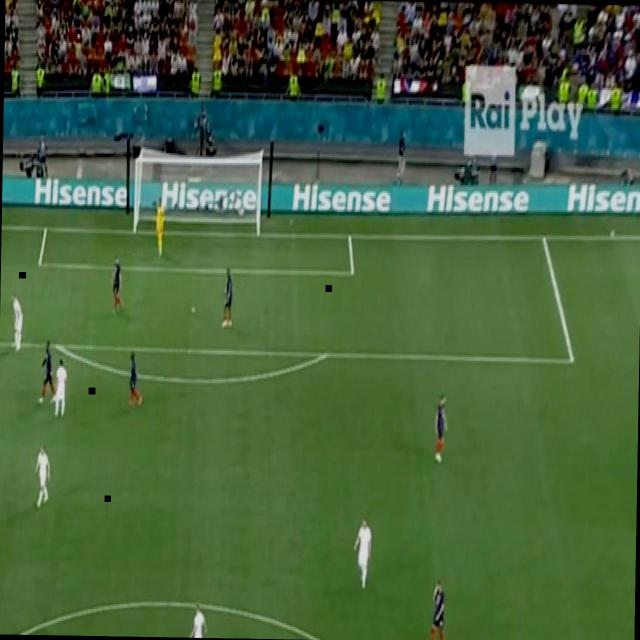player-white: (353, 518, 373, 590), (37, 338, 57, 404), (34, 442, 52, 508), (50, 358, 68, 417), (434, 393, 449, 463), (429, 578, 445, 640), (127, 350, 144, 408), (10, 292, 24, 354), (111, 255, 125, 313), (153, 199, 166, 257), (221, 266, 233, 328), (189, 602, 209, 638)
